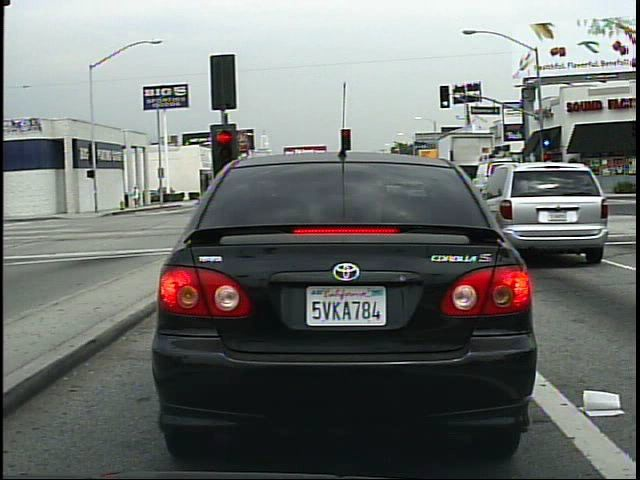person: (518, 169, 533, 202), (130, 182, 143, 211)
